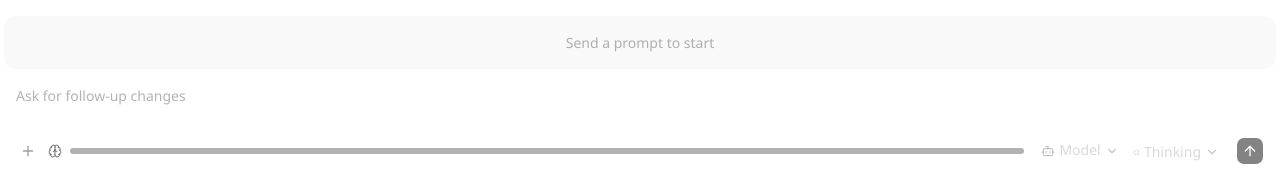
ChatStream › typing # opens the picker with the MCP rows (# badge)
This screenshot has width=1280, height=181.
Step 1. Type "#" into the text box → (640, 106), box [16,85,1264,127]
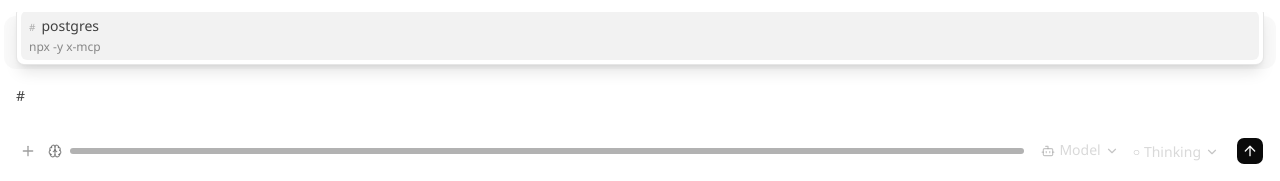
Check: the text "#" is shown, box [29,20,36,35]
